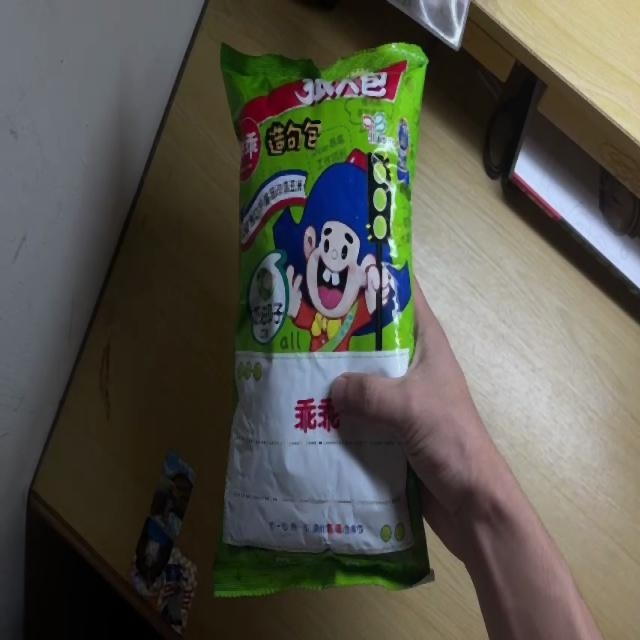Good-Luck: (212, 37, 436, 605)
